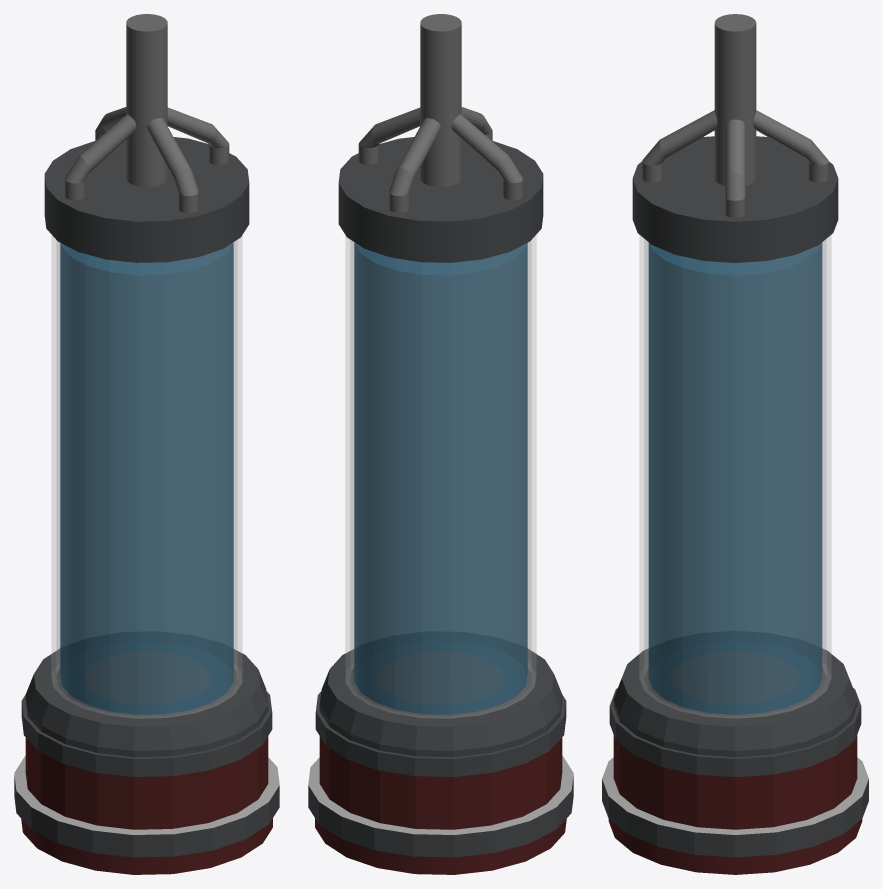
The model's file is Test_Tube_Full.fbx.
The picture shows the model from 3 angles, left to right: view 1: azimuth 30°, elevation 25°; view 2: azimuth 150°, elevation 25°; view 3: azimuth 270°, elevation 25°; orthographic projection.
Visible parts, largest first — view 1: Glass_Tube, Blue_Liquid, Base, Tube_Top, Pipe_Center, Pipe_02, Pipe_01, Pipe_04; view 2: Glass_Tube, Blue_Liquid, Base, Tube_Top, Pipe_Center, Pipe_02, Pipe_03, Pipe_04; view 3: Glass_Tube, Blue_Liquid, Base, Tube_Top, Pipe_Center, Pipe_04, Pipe_01, Pipe_03.
Boxes of the visible parts, x1,y1,x2,y2 form: Glass_Tube: (51,235,242,718); Blue_Liquid: (60,242,233,714); Base: (14,648,279,874); Tube_Top: (44,137,249,262); Pipe_Center: (126,14,167,186); Pipe_02: (64,114,136,200); Pipe_01: (147,118,198,212); Pipe_04: (167,107,229,164); Glass_Tube: (345,235,536,718); Blue_Liquid: (354,242,527,714); Base: (308,648,573,874); Tube_Top: (338,137,543,262); Pipe_Center: (420,14,461,186); Pipe_02: (451,114,523,200); Pipe_03: (389,118,440,212); Pipe_04: (358,107,420,164); Glass_Tube: (639,235,831,718); Blue_Liquid: (648,243,822,714); Base: (602,648,868,874); Tube_Top: (632,136,838,262); Pipe_Center: (714,14,756,185); Pipe_04: (725,119,745,217); Pipe_01: (642,110,717,182); Pipe_03: (753,110,828,182).
Size of the model in its own units: 101 by 332 by 101.
